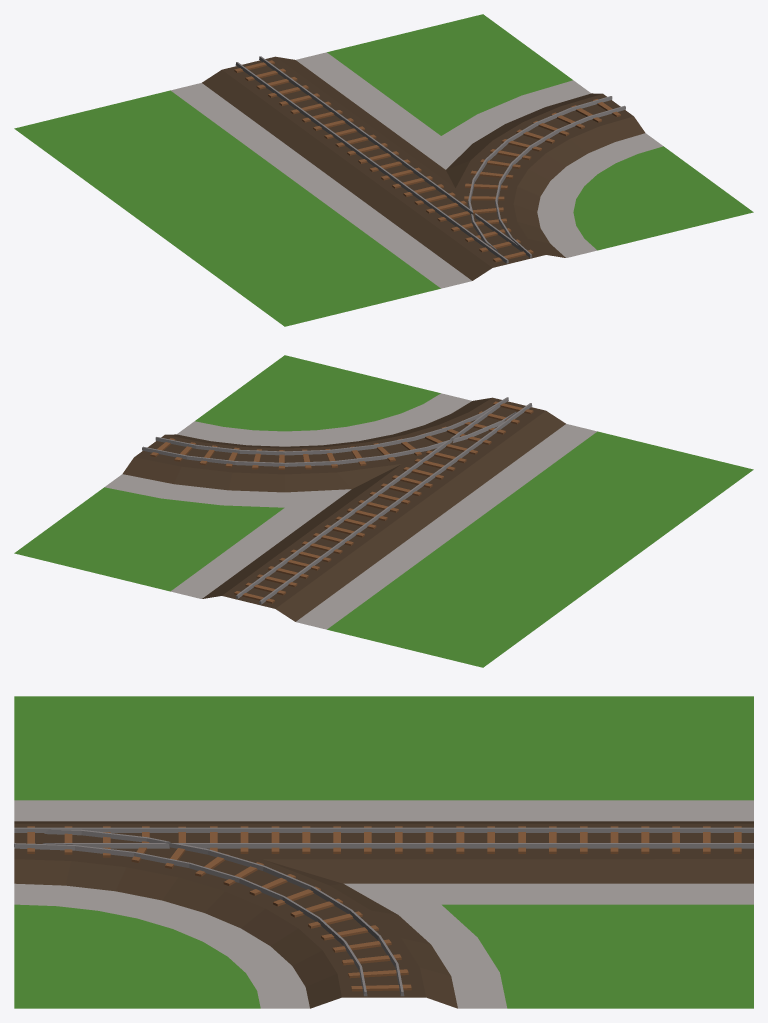
Rendered from tiles-nb_tile-rail-y-nb.fbx.
3 views of the same model, one above another, from view 1: azimuth 30°, elevation 25°; view 2: azimuth 150°, elevation 25°; view 3: azimuth 270°, elevation 25° (orthographic). The views are drawn at different scales.
Parts seen in each view (by area): view 1: tiles_nb_tile_rail_y_nb; view 2: tiles_nb_tile_rail_y_nb; view 3: tiles_nb_tile_rail_y_nb.
Part boxes in pixels (box(x1,y1,x2,y2)): tiles_nb_tile_rail_y_nb: box(14, 14, 753, 326); tiles_nb_tile_rail_y_nb: box(14, 355, 753, 667); tiles_nb_tile_rail_y_nb: box(14, 696, 753, 1008).
Size of the model in its own units: 200 by 4.97 by 200.
